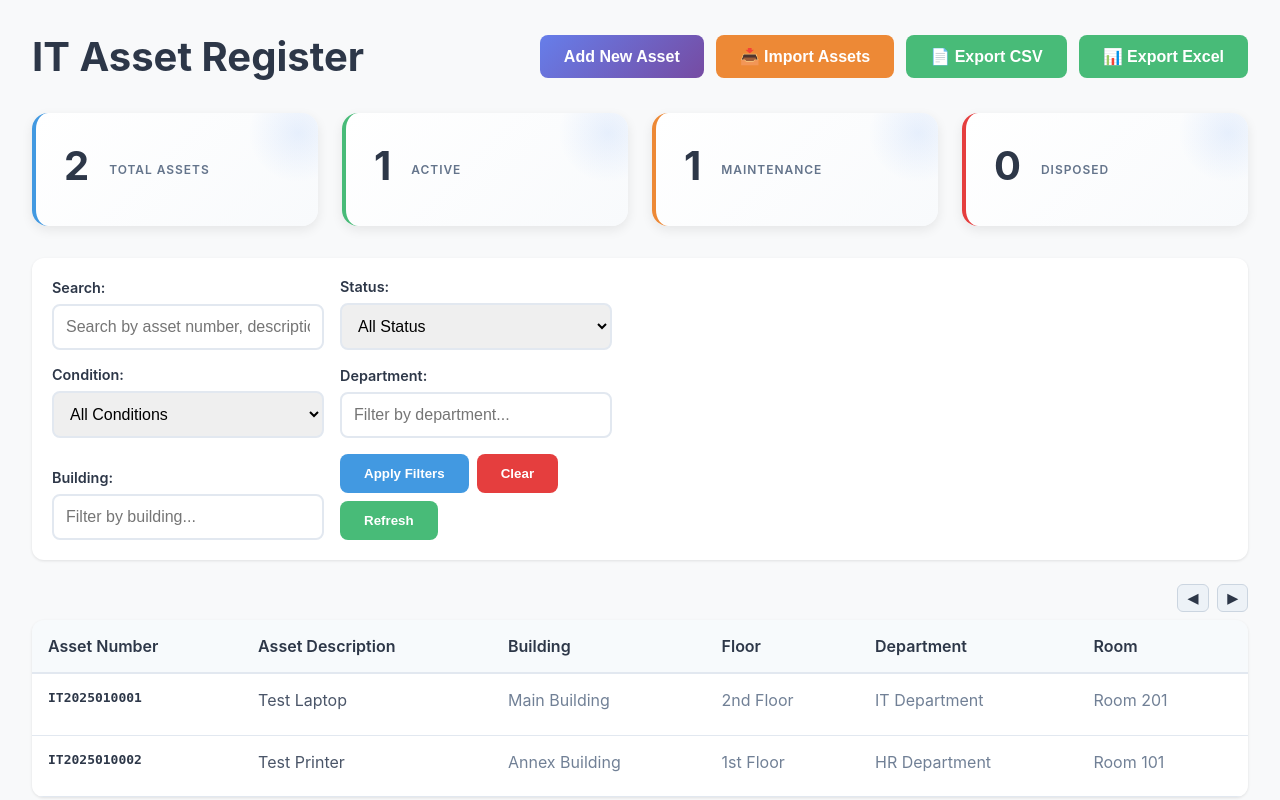
Test: IT Asset Register Components › ITAssetReport › shows add new asset form when button is clicked
The width and height of the screenshot is (1280, 800).
Expected: the heading "IT Asset Register" is shown, [32,32,364,81]
Click add new asset button
Click the button "Add New Asset" at (622, 56), box [540,35,704,78]
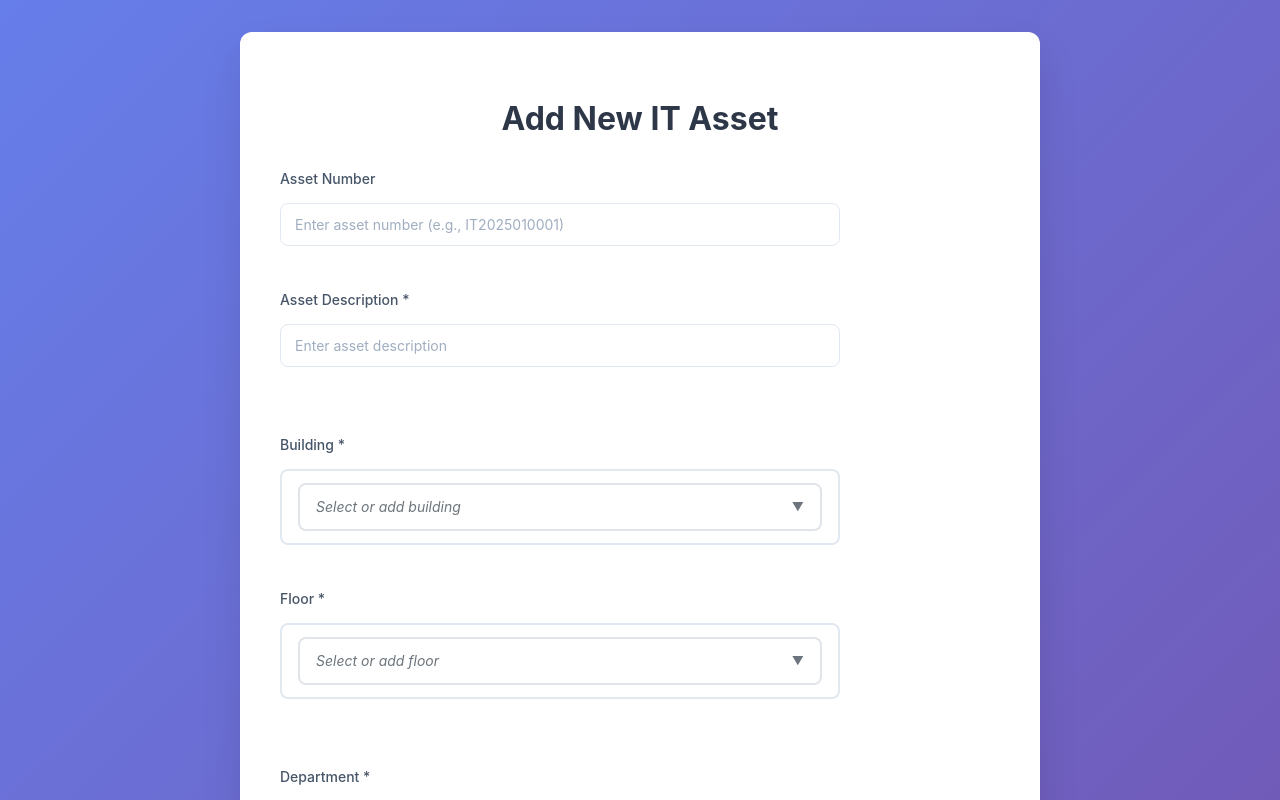
Expected: the heading "Add New IT Asset" is shown, [502,98,778,138]
